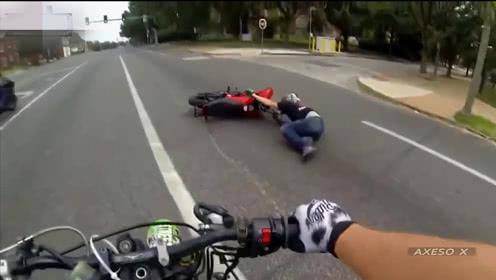Fall-Detected: (246, 81, 330, 162)
